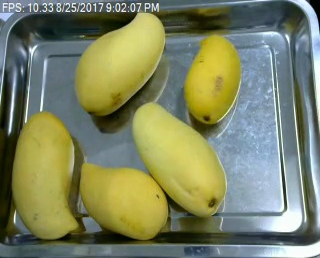Mango: (128, 101, 231, 220), (73, 7, 168, 113), (75, 157, 175, 242), (10, 112, 76, 237), (181, 29, 247, 126)
